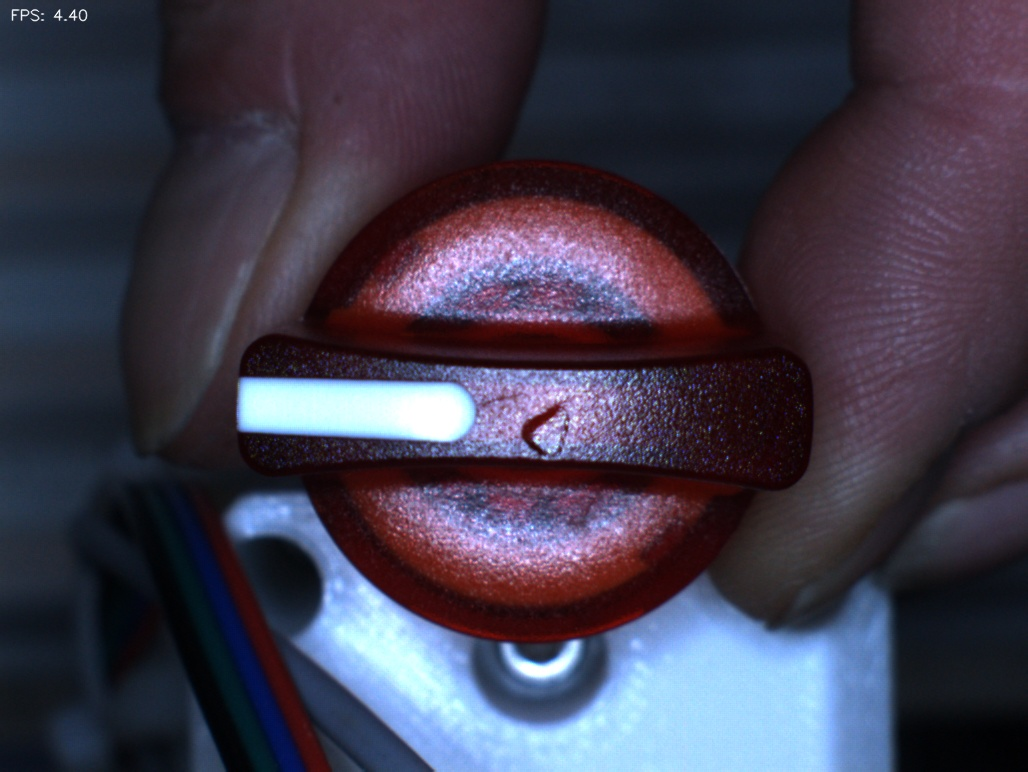Choc: (505, 388, 594, 477)
